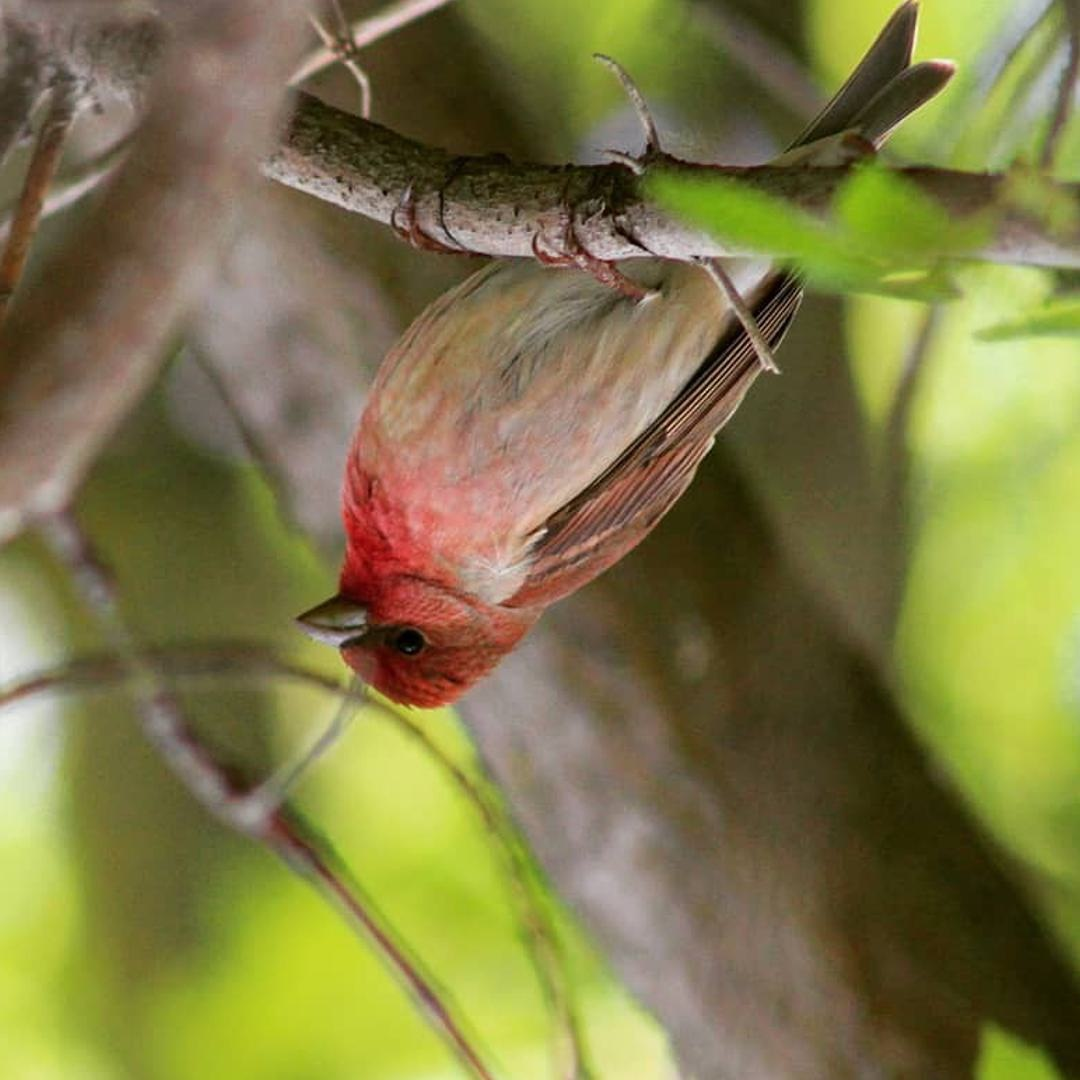rosefinch: (292, 61, 867, 727)
